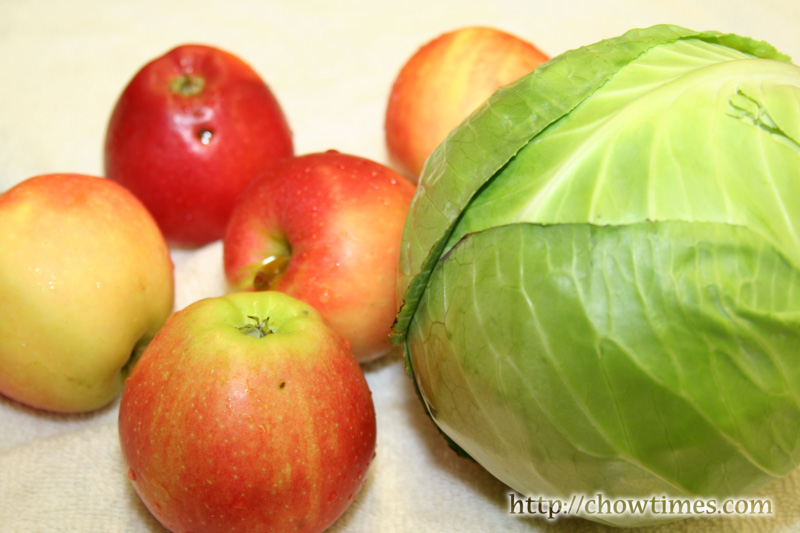cabbage: (388, 21, 798, 531)
